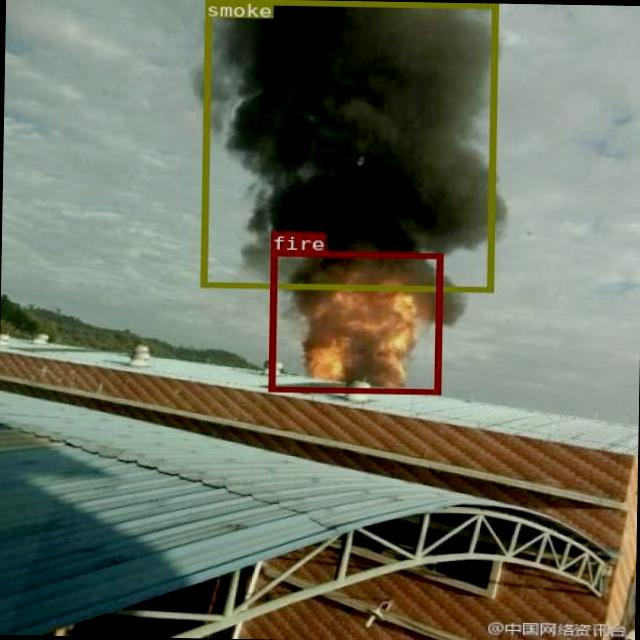fire: (268, 248, 441, 394)
smoke: (198, 0, 497, 290)
